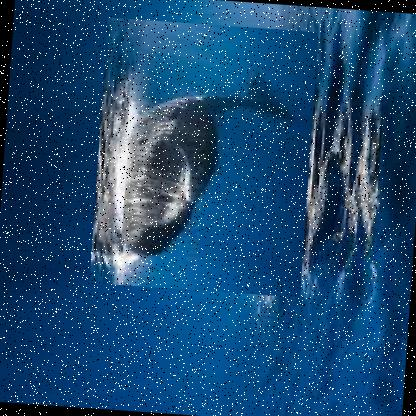sperm_whale: (87, 16, 318, 298)
